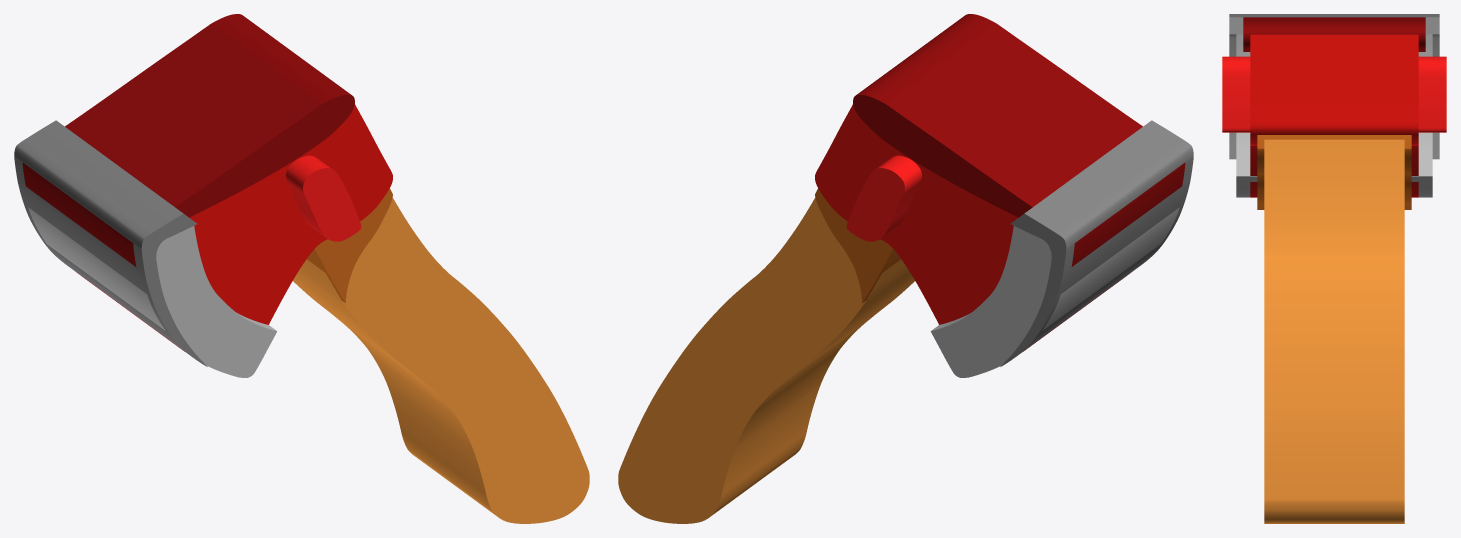
3 renders of one model, left to right at view 1: azimuth 30°, elevation 25°; view 2: azimuth 150°, elevation 25°; view 3: azimuth 270°, elevation 25°, orthographic. The views are drawn at different scales.
Parts seen in each view (by area): view 1: U+1FA93_layer00_obj00, U+1FA93_layer03_obj00, U+1FA93_layer02_obj00, U+1FA93_layer05_obj00, U+1FA93_layer04_obj00, U+1FA93_layer06_obj00, U+1FA93_layer01_obj00; view 2: U+1FA93_layer00_obj00, U+1FA93_layer03_obj00, U+1FA93_layer02_obj00, U+1FA93_layer05_obj00, U+1FA93_layer04_obj00, U+1FA93_layer06_obj00, U+1FA93_layer01_obj00; view 3: U+1FA93_layer00_obj00, U+1FA93_layer02_obj00, U+1FA93_layer06_obj00, U+1FA93_layer03_obj00, U+1FA93_layer04_obj00, U+1FA93_layer05_obj00, U+1FA93_layer01_obj00.
Part boxes in pixels (x1,y1,x2,y2): U+1FA93_layer00_obj00: [293, 198, 589, 523]; U+1FA93_layer03_obj00: [22, 14, 354, 266]; U+1FA93_layer02_obj00: [78, 104, 392, 351]; U+1FA93_layer05_obj00: [14, 120, 207, 366]; U+1FA93_layer04_obj00: [28, 207, 277, 377]; U+1FA93_layer06_obj00: [286, 155, 361, 241]; U+1FA93_layer01_obj00: [307, 188, 392, 302]; U+1FA93_layer00_obj00: [618, 198, 914, 523]; U+1FA93_layer03_obj00: [853, 14, 1185, 266]; U+1FA93_layer02_obj00: [815, 104, 1129, 351]; U+1FA93_layer05_obj00: [1000, 120, 1193, 366]; U+1FA93_layer04_obj00: [930, 207, 1179, 377]; U+1FA93_layer06_obj00: [846, 155, 921, 241]; U+1FA93_layer01_obj00: [815, 188, 900, 302]; U+1FA93_layer00_obj00: [1264, 139, 1404, 523]; U+1FA93_layer02_obj00: [1250, 34, 1418, 197]; U+1FA93_layer06_obj00: [1222, 56, 1446, 132]; U+1FA93_layer03_obj00: [1243, 17, 1425, 51]; U+1FA93_layer04_obj00: [1236, 34, 1432, 197]; U+1FA93_layer05_obj00: [1229, 14, 1439, 159]; U+1FA93_layer01_obj00: [1257, 135, 1411, 209].
Size of the model in its own units: 0.3189 by 0.3174 by 0.16.
